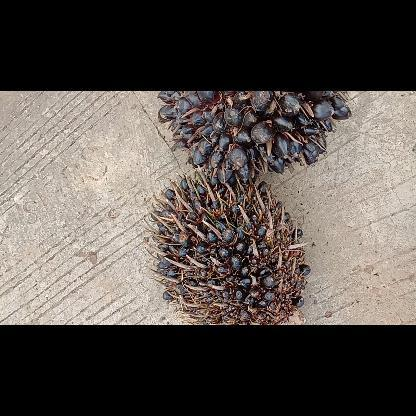TBS mentah: (145, 166, 313, 324), (152, 90, 354, 186)
